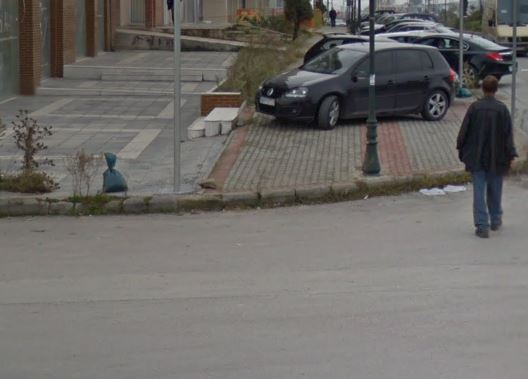trash: (86, 152, 135, 194), (413, 180, 473, 197)
